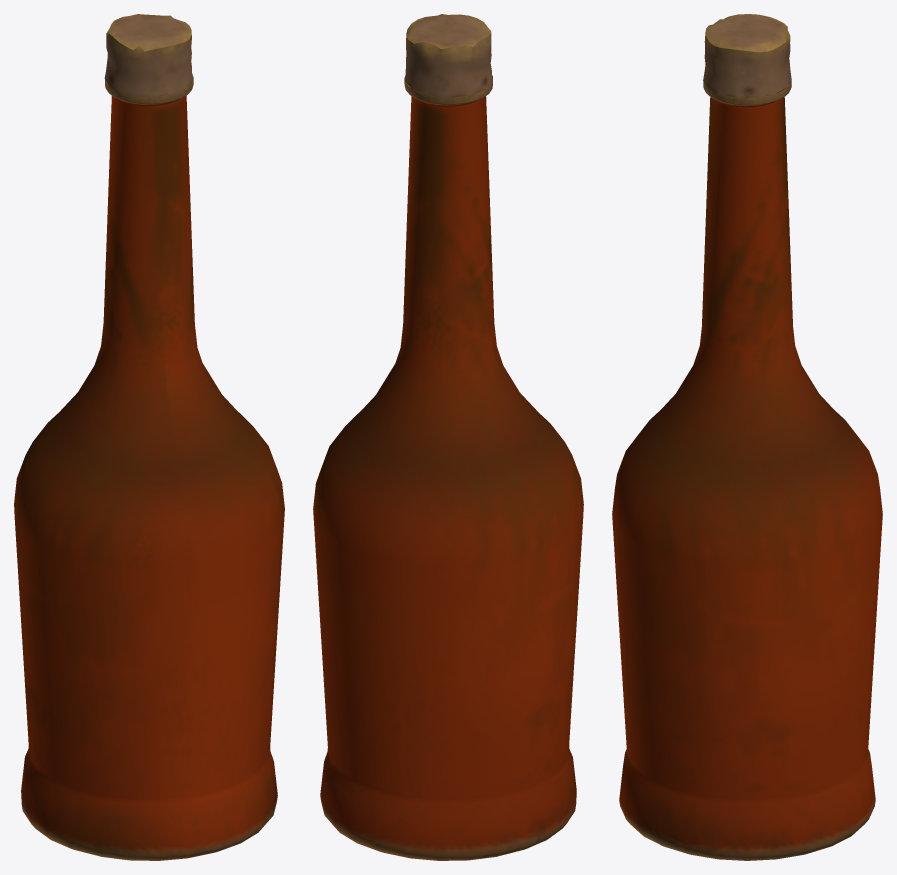
Rendered from SM_Bottle5.FBX.
3 renders of one model, left to right at view 1: azimuth 30°, elevation 25°; view 2: azimuth 150°, elevation 25°; view 3: azimuth 270°, elevation 25°, orthographic.
Visible parts, largest first — view 1: SM_Bottle5; view 2: SM_Bottle5; view 3: SM_Bottle5.
Part boxes in pixels (x1,y1,x2,y2): SM_Bottle5: [14, 14, 284, 860]; SM_Bottle5: [313, 14, 583, 860]; SM_Bottle5: [612, 14, 882, 860].
Size of what is drawn, in the model's own units: 12.42 by 12.44 by 39.63.
